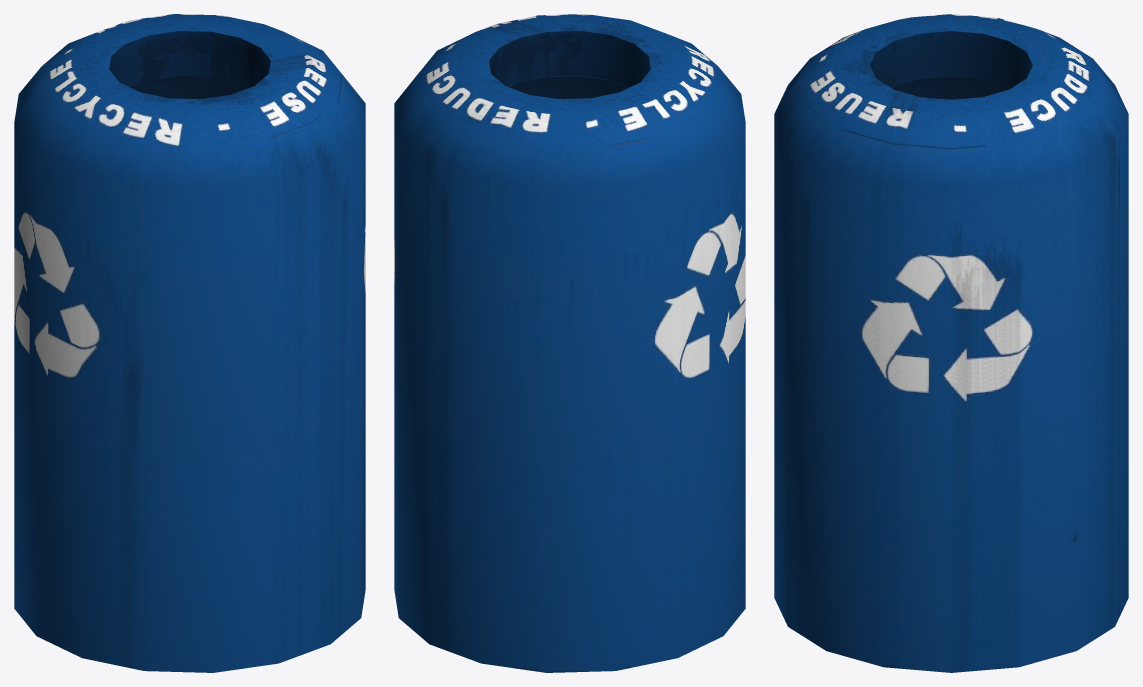
File: SM_Bin_02.glb
3 views of the same model, side by side, from view 1: azimuth 30°, elevation 25°; view 2: azimuth 150°, elevation 25°; view 3: azimuth 270°, elevation 25° (orthographic).
Parts seen in each view (by area): view 1: SM_Bin_02; view 2: SM_Bin_02; view 3: SM_Bin_02.
Boxes of the visible parts, bbox=[...] form: SM_Bin_02: bbox=[14, 14, 365, 672]; SM_Bin_02: bbox=[394, 14, 745, 672]; SM_Bin_02: bbox=[774, 14, 1128, 672].
Bounding box in the file's own units: 0.6516 × 1.08 × 0.6516.
1 material, 1 textured.
